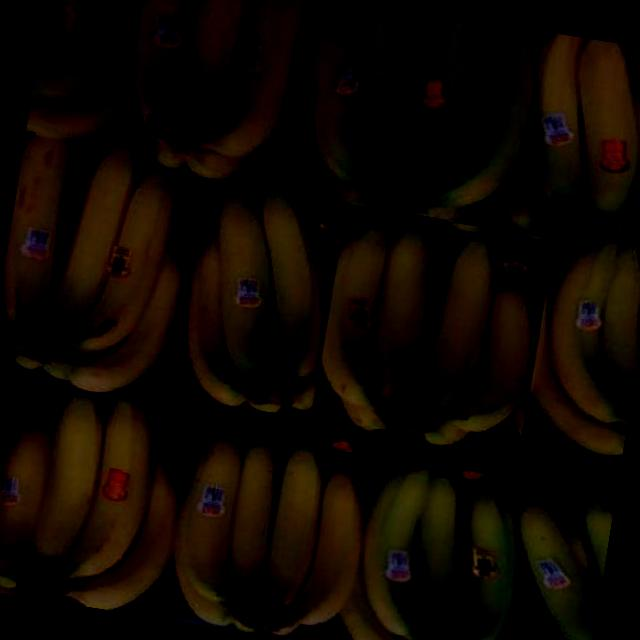Banana: (307, 205, 554, 478), (279, 0, 546, 237), (0, 130, 201, 403), (159, 430, 376, 640), (168, 177, 351, 425), (0, 386, 193, 619), (324, 450, 533, 640), (109, 0, 314, 189), (487, 27, 640, 260), (518, 226, 640, 464), (490, 460, 619, 640), (26, 0, 151, 147)
